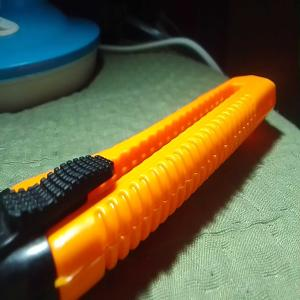estilete: (0, 73, 278, 300)
